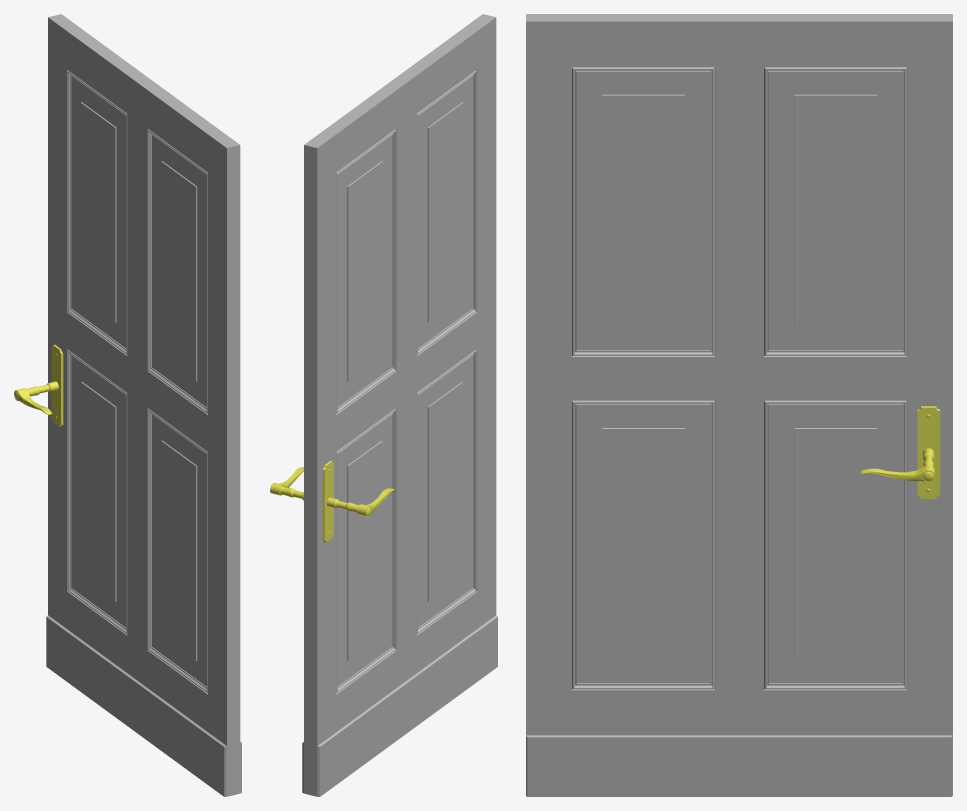
The model's file is door.glb.
The picture shows the model from 3 angles, left to right: view 1: azimuth 30°, elevation 25°; view 2: azimuth 150°, elevation 25°; view 3: azimuth 270°, elevation 25°; orthographic projection. The views are drawn at different scales.
Parts seen in each view (by area): view 1: Door, doorHandle; view 2: Door, doorHandle; view 3: Door, doorHandle.
Part boxes in pixels (bbox=[...]): Door: bbox=[46, 14, 241, 796]; doorHandle: bbox=[14, 344, 63, 426]; Door: bbox=[302, 14, 497, 796]; doorHandle: bbox=[270, 461, 394, 542]; Door: bbox=[526, 14, 952, 796]; doorHandle: bbox=[861, 406, 940, 498].
Bounding box in the file's own units: 0.3962 × 2.5 × 1.25.
